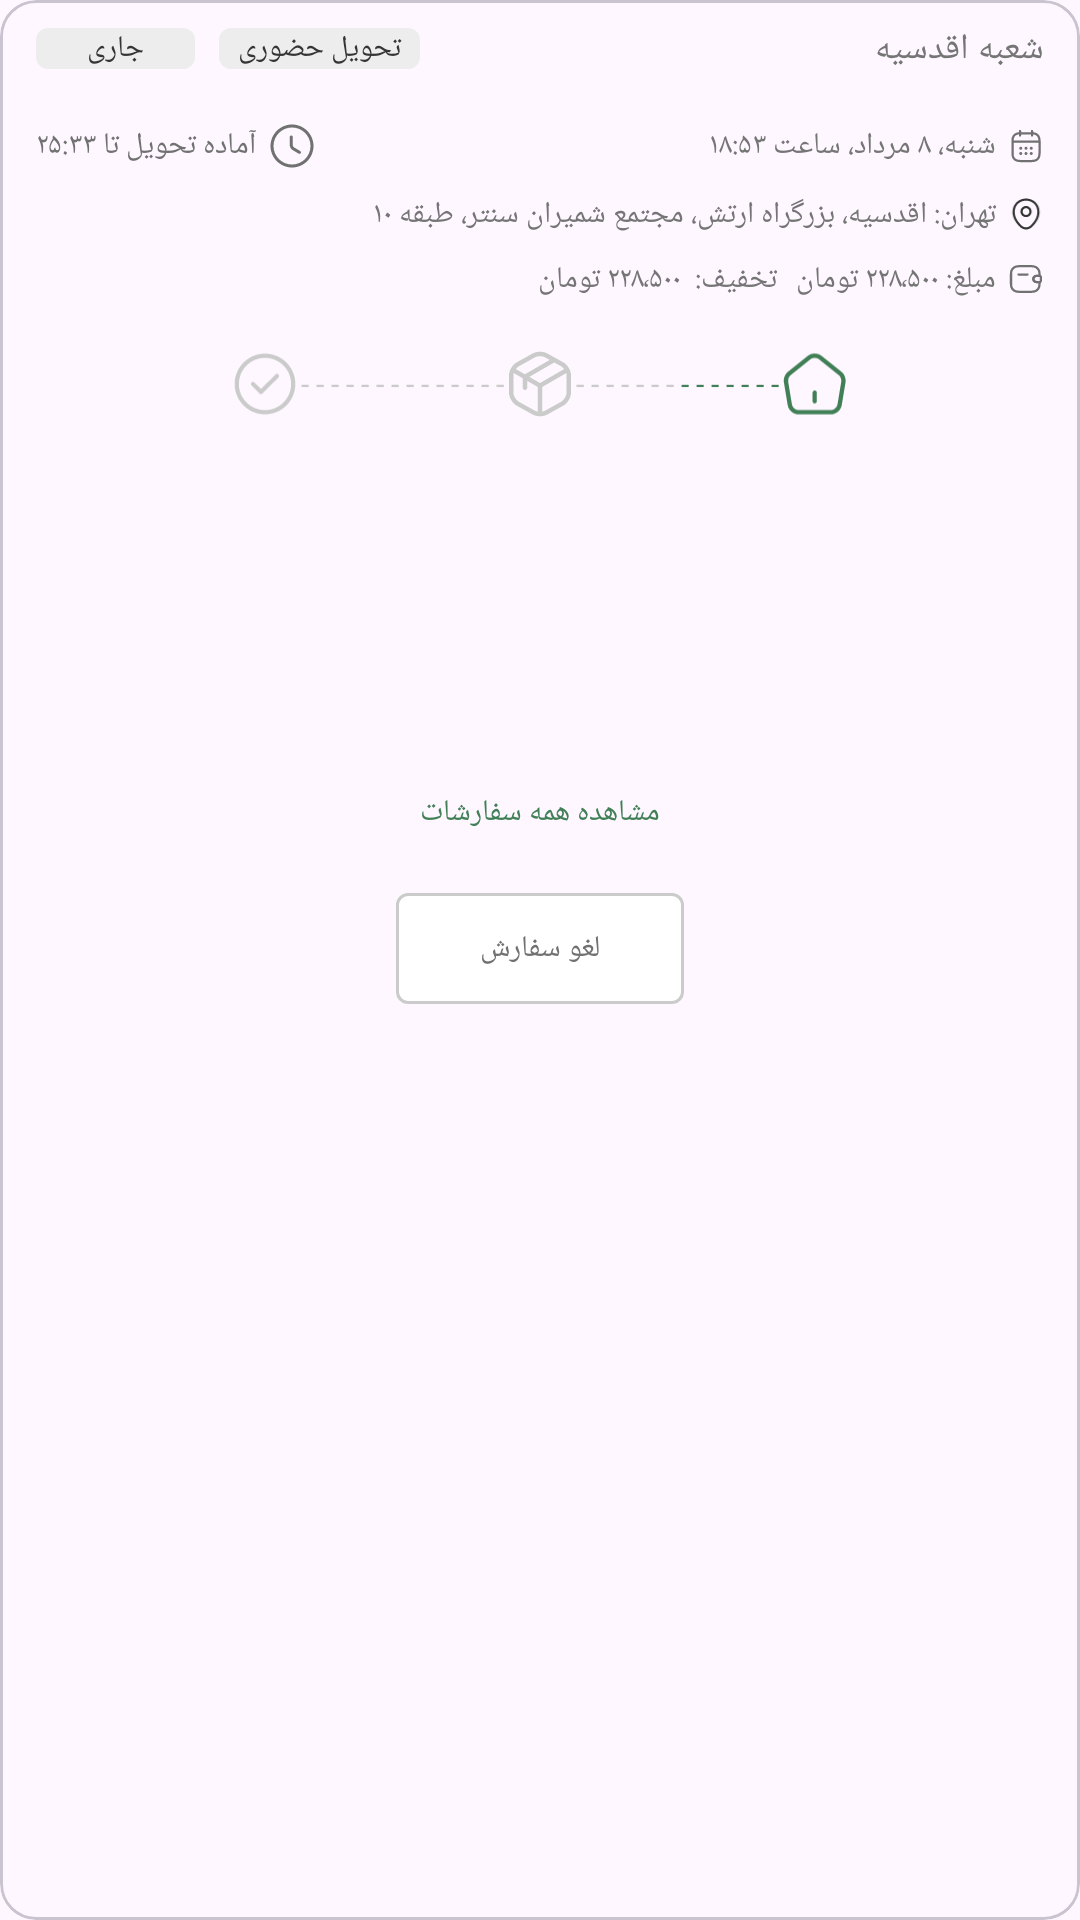

Where to tap for icons on this 1080*1920 app screen, as [x,y]:
box: [540,384]
calendar: [1026,146]
clock: [292,146]
home: [814,384]
location: [1026,214]
tick circle: [265,384]
wallet: [1025,279]
